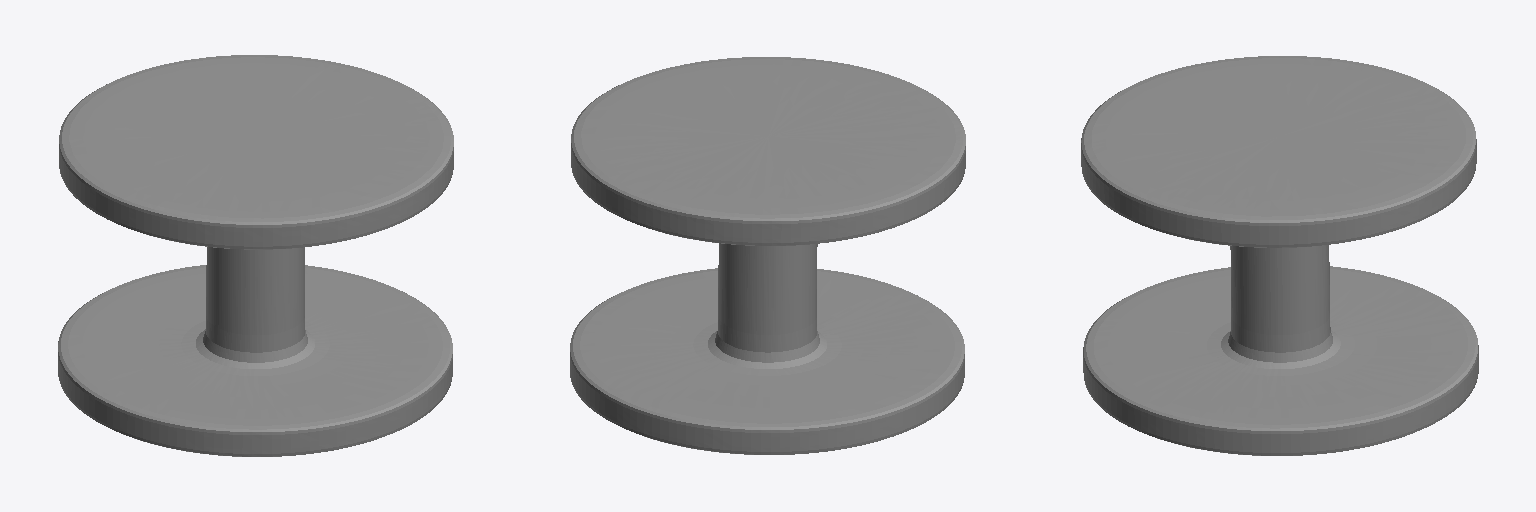
File: S_reggicinghia.obj
3 renders of one model, left to right at view 1: azimuth 30°, elevation 25°; view 2: azimuth 150°, elevation 25°; view 3: azimuth 270°, elevation 25°, orthographic.
Parts seen in each view (by area): view 1: reggicinghia; view 2: reggicinghia; view 3: reggicinghia.
Boxes of the visible parts, box(x1,y1,x2,y2) form: reggicinghia: box(58, 55, 453, 456); reggicinghia: box(570, 57, 965, 454); reggicinghia: box(1081, 56, 1478, 455).
Size of the model in its own units: 0.0062 by 0.0042 by 0.0063.